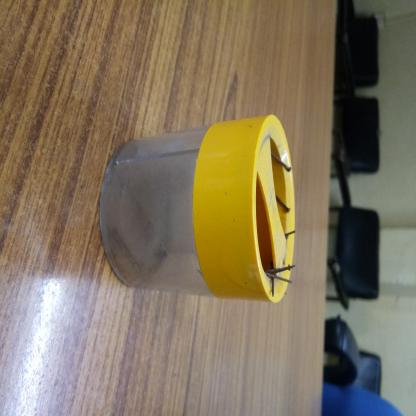bottle: (190, 159, 334, 416)
